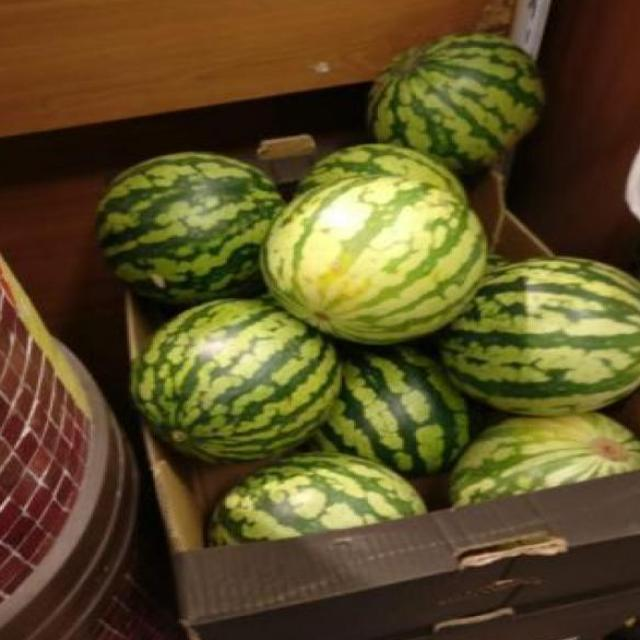Watermelon: (135, 287, 348, 452), (270, 182, 483, 341), (79, 157, 288, 308), (457, 254, 640, 419), (374, 20, 556, 166)
